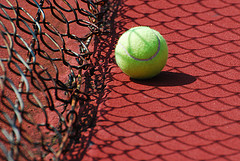tennis ball: (114, 23, 170, 82)
